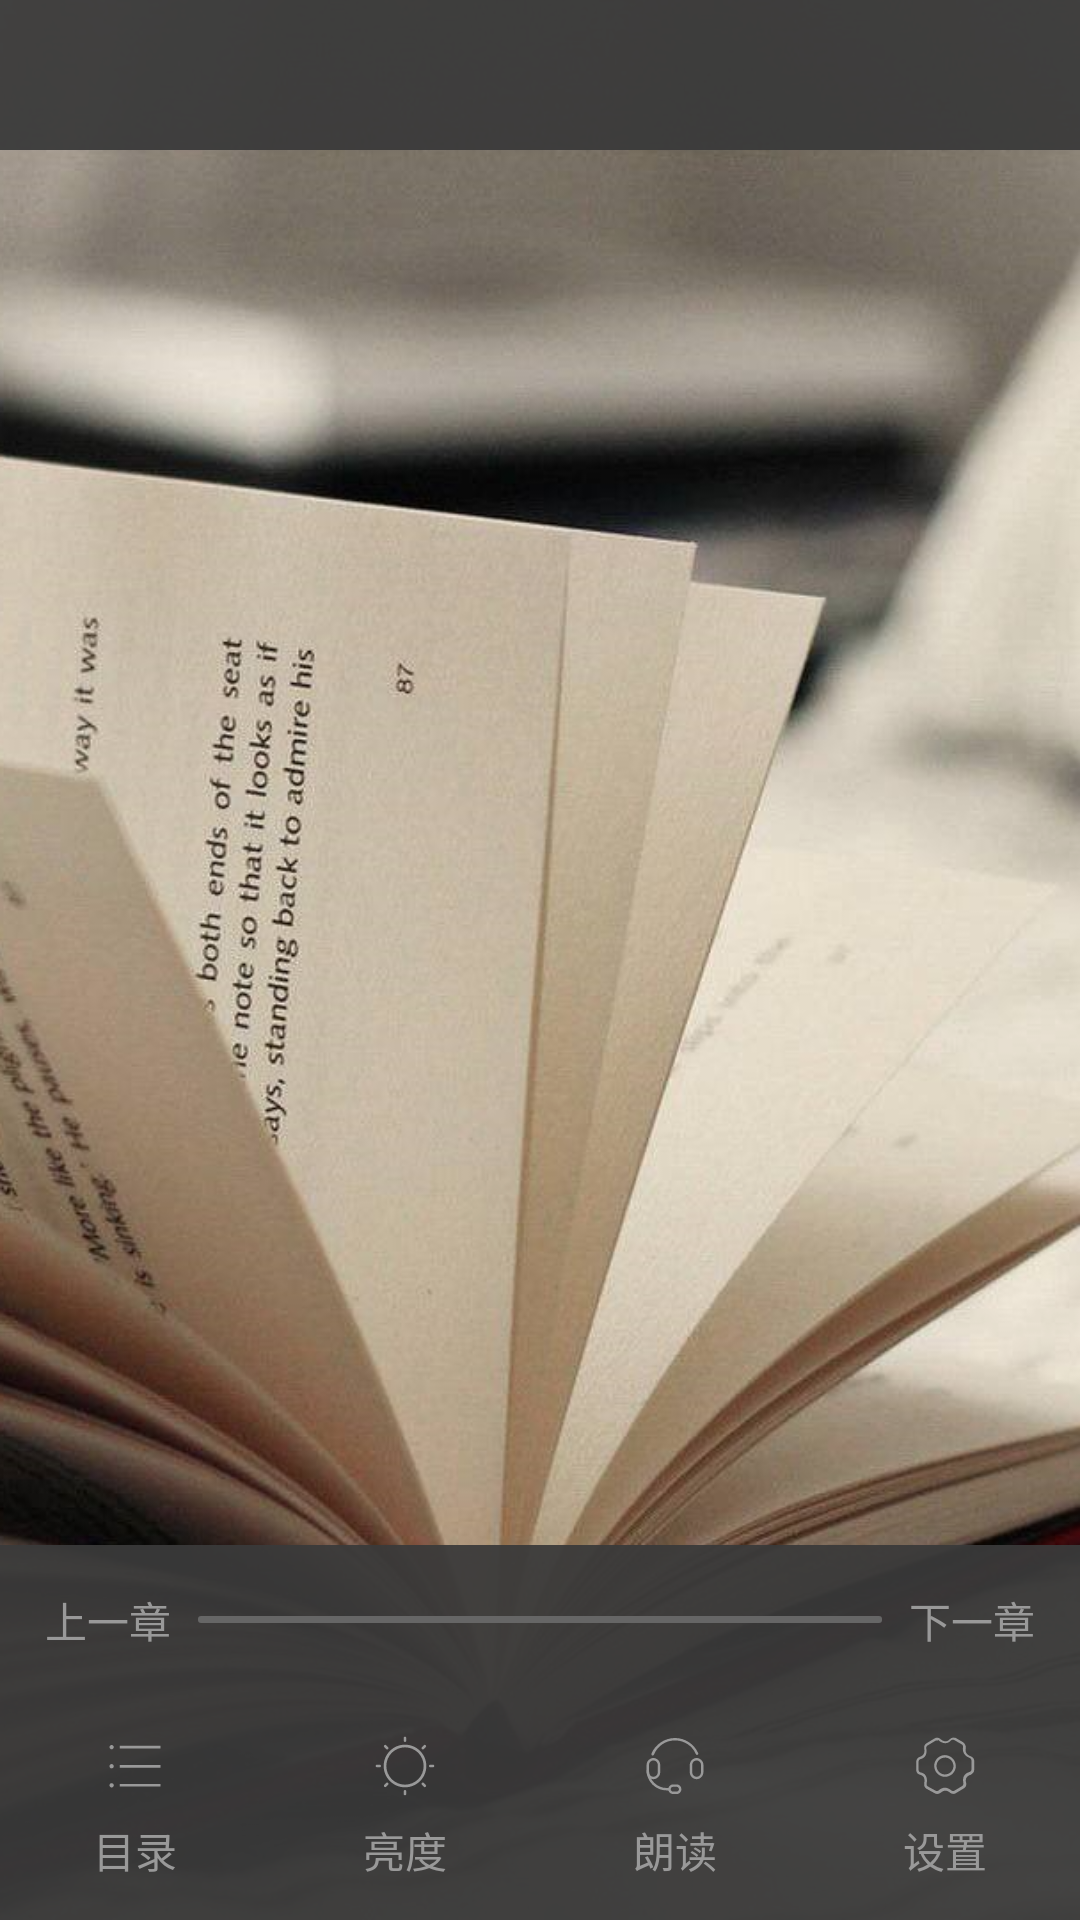

Icons on this 1080 × 1920 Android screen, each with its box as (x1, y1, x2, y2):
read menu category: (109, 1745, 161, 1788)
